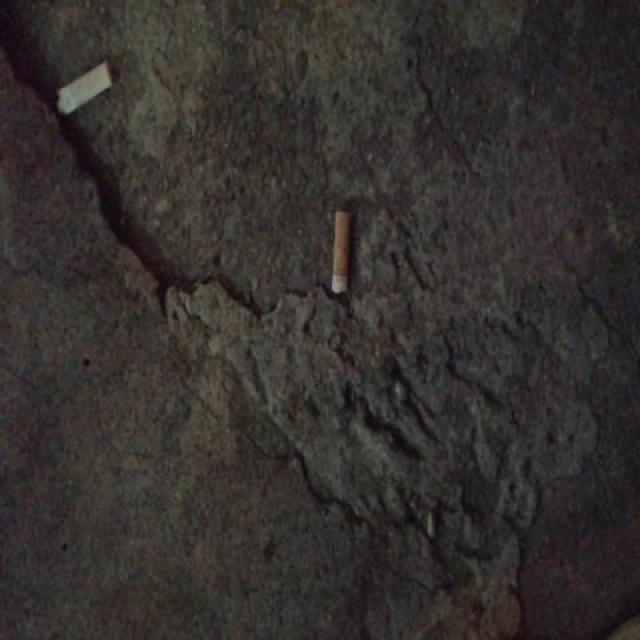non-organic waste: (54, 56, 119, 120), (328, 205, 357, 300)
